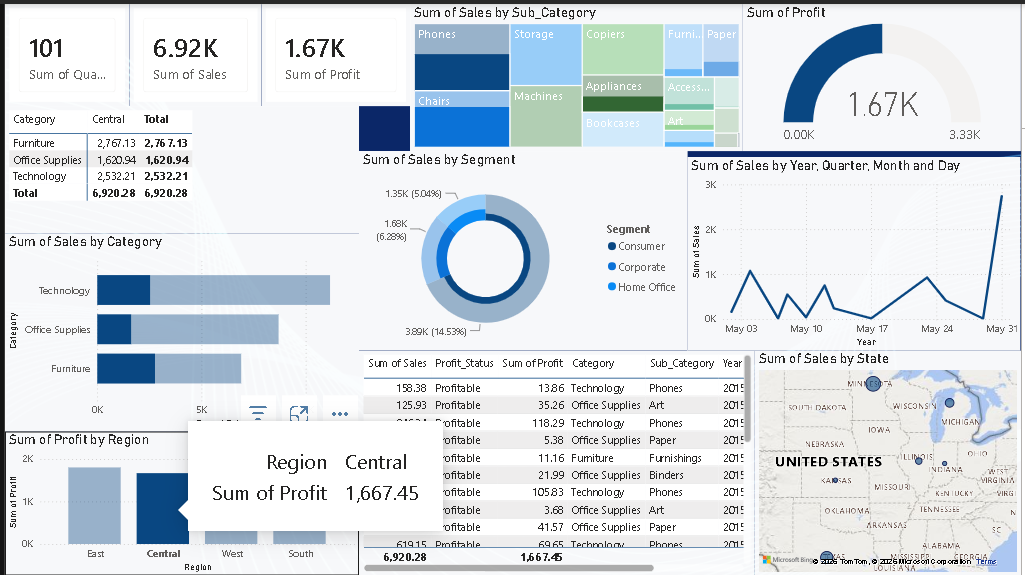

The dashboard page shown, as its layout file describes it:
{"tool":"powerbi","page":{"name":"Dashboard","canvas":[1280,720],"ordinal":0},"visuals":[{"type":"cardVisual","fields":{"Data":["Sum(Sample - Superstore.Sales)"]},"box":[156.9,0,166.3,128.5],"z":0},{"type":"cardVisual","fields":{"Data":["Sum(Sample - Superstore.Profit)"]},"box":[323.2,0,187.1,128.5],"z":1000},{"type":"cardVisual","fields":{"Data":["Sum(Sample - Superstore.Quantity)"]},"box":[0,0,156.9,128.5],"z":2000},{"type":"clusteredBarChart","fields":{"Category":["Sample - Superstore.Category"],"Y":["Sum(Sample - Superstore.Sales)"]},"box":[0,289.1,446,249.5],"z":2001},{"type":"clusteredColumnChart","fields":{"Category":["Sample - Superstore.Region"],"Y":["Sum(Sample - Superstore.Profit)"]},"box":[0,538.6,446,181.4],"z":2002},{"type":"lineChart","fields":{"Category":["Sample - Superstore.Order Date.Variation.Date Hierarchy.Year","Sample - Superstore.Order Date.Variation.Date Hierarchy.Quarter","Sample - Superstore.Order Date.Variation.Date Hierarchy.Month","Sample - Superstore.Order Date.Variation.Date Hierarchy.Day"],"Y":["Sum(Sample - Superstore.Sales)"]},"box":[859.8,192.8,419.5,243.8],"z":2003},{"type":"donutChart","fields":{"Category":["Sample - Superstore.Segment"],"Y":["Sum(Sample - Superstore.Sales)"]},"box":[446,185.2,413.9,251.3],"z":2004},{"type":"tableEx","fields":{"Values":["Sum(Sample - Superstore.Sales)","Sample - Superstore.Profit_Status","Sum(Sample - Superstore.Profit)","Sample - Superstore.Category","Sample - Superstore.Sub_Category","Sample - Superstore.Order Date.Variation.Date Hierarchy.Year","Sample - Superstore.Order Date.Variation.Date Hierarchy.Quarter","Sample - Superstore.Order Date.Variation.Date Hierarchy.Month","Sample - Superstore.Order Date.Variation.Date Hierarchy.Day"]},"box":[446,436.5,498.9,283.5],"z":2005},{"type":"pivotTable","fields":{"Rows":["Sample - Superstore.Category"],"Columns":["Sample - Superstore.Region"],"Values":["Sum(Sample - Superstore.Sales)"]},"box":[0,128.5,446,160.6],"z":2006},{"type":"map","fields":{"Category":["Sample - Superstore.State"],"Size":["Sum(Sample - Superstore.Sales)"]},"box":[945,437,335,283],"z":2007},{"type":"treemap","fields":{"Group":["Sample - Superstore.Sub_Category"],"Values":["Sum(Sample - Superstore.Sales)"]},"box":[510.2,0,419.5,185.2],"z":2008},{"type":"gauge","fields":{"Y":["Sum(Sample - Superstore.Profit)"]},"box":[930,0,350,185],"z":2009}]}

Visuals, with their boxes in screenshot pixels (x1, y1, x2, y2), scaled from the page's 1280x720 canvas onto the 1025x575 screenshot:
cardVisual - Sum(Sample - Superstore.Sales): (x1=126, y1=0, x2=259, y2=103)
cardVisual - Sum(Sample - Superstore.Profit): (x1=259, y1=0, x2=409, y2=103)
cardVisual - Sum(Sample - Superstore.Quantity): (x1=0, y1=0, x2=126, y2=103)
clusteredBarChart - Sample - Superstore.Category x Sum(Sample - Superstore.Sales): (x1=0, y1=231, x2=357, y2=430)
clusteredColumnChart - Sample - Superstore.Region x Sum(Sample - Superstore.Profit): (x1=0, y1=430, x2=357, y2=574)
lineChart - Sample - Superstore.Order Date.Variation.Date Hierarchy.Year x Sample - Superstore.Order Date.Variation.Date Hierarchy.Quarter: (x1=689, y1=154, x2=1024, y2=349)
donutChart - Sample - Superstore.Segment x Sum(Sample - Superstore.Sales): (x1=357, y1=148, x2=689, y2=349)
tableEx - Sum(Sample - Superstore.Sales) x Sample - Superstore.Profit_Status: (x1=357, y1=349, x2=757, y2=574)
pivotTable - Sample - Superstore.Category x Sample - Superstore.Region: (x1=0, y1=103, x2=357, y2=231)
map - Sample - Superstore.State x Sum(Sample - Superstore.Sales): (x1=757, y1=349, x2=1024, y2=574)
treemap - Sample - Superstore.Sub_Category x Sum(Sample - Superstore.Sales): (x1=409, y1=0, x2=744, y2=148)
gauge - Sum(Sample - Superstore.Profit): (x1=745, y1=0, x2=1024, y2=148)
